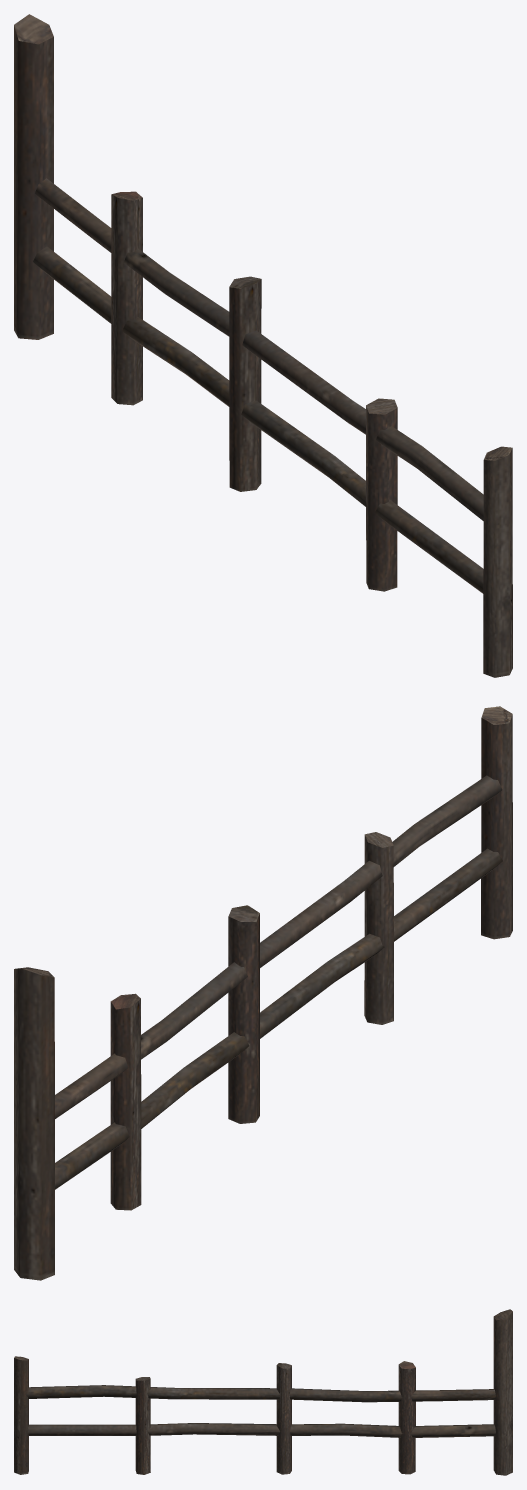
File: b_zx_mulangan01_01.FBX
3 renders of one model, top to bottom at view 1: azimuth 30°, elevation 25°; view 2: azimuth 150°, elevation 25°; view 3: azimuth 270°, elevation 25°, orthographic. The views are drawn at different scales.
Visible parts, largest first — view 1: b_zx_mulangan01_01; view 2: b_zx_mulangan01_01; view 3: b_zx_mulangan01_01.
Part boxes in pixels (x1=…): b_zx_mulangan01_01: x1=14, y1=14, x2=512, y2=677; b_zx_mulangan01_01: x1=14, y1=706, x2=512, y2=1280; b_zx_mulangan01_01: x1=14, y1=1309, x2=512, y2=1475.
Size of the model in its own units: 0.3282 by 2.7 by 7.59.
